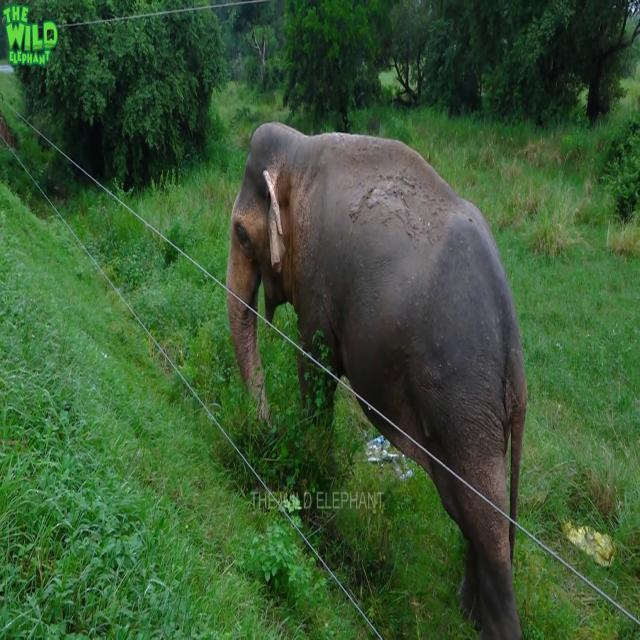Elephant: (225, 120, 528, 639)
